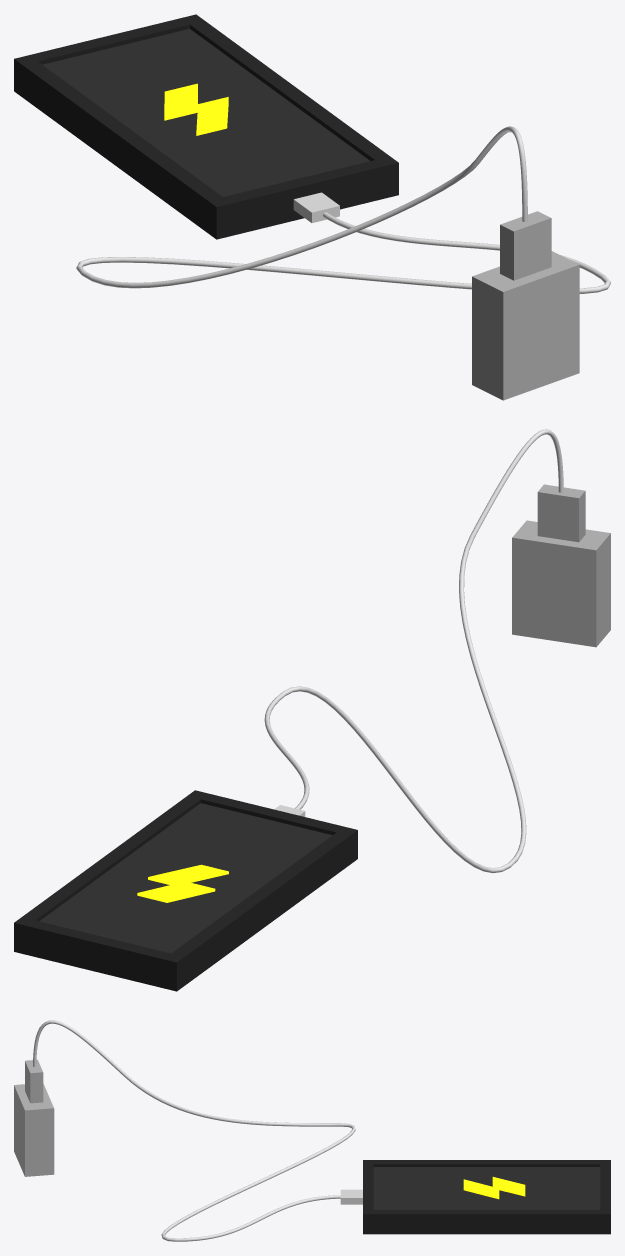
Rendered from Phone.fbx.
The picture shows the model from 3 angles, top to bottom: view 1: azimuth 30°, elevation 25°; view 2: azimuth 150°, elevation 25°; view 3: azimuth 270°, elevation 25°; orthographic projection. The views are drawn at different scales.
Parts seen in each view (by area): view 1: Phone, Charger, Object, icon; view 2: Phone, Charger, Object, icon; view 3: Phone, Charger, Object, icon.
Part boxes in pixels (x1,y1,x2,y2): Phone: (14,14,398,239); Charger: (472,211,579,400); Object: (76,126,610,293); icon: (164,83,228,135); Phone: (14,790,357,991); Charger: (512,484,610,647); Object: (264,429,563,873); icon: (137,864,228,902); Phone: (340,1160,610,1234); Charger: (14,1059,54,1176); Object: (33,1020,355,1241); icon: (463,1177,525,1199).
Bounding box in the file's own units: 157 × 109 × 340.
